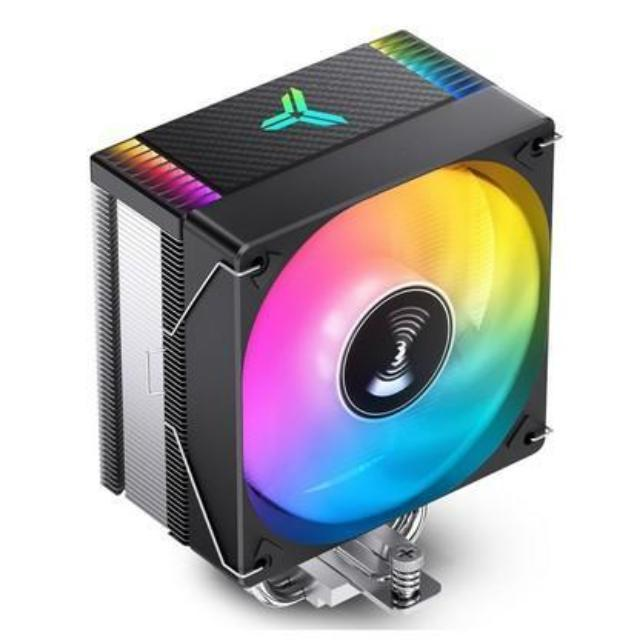CPU_Fan: (79, 17, 556, 626)
